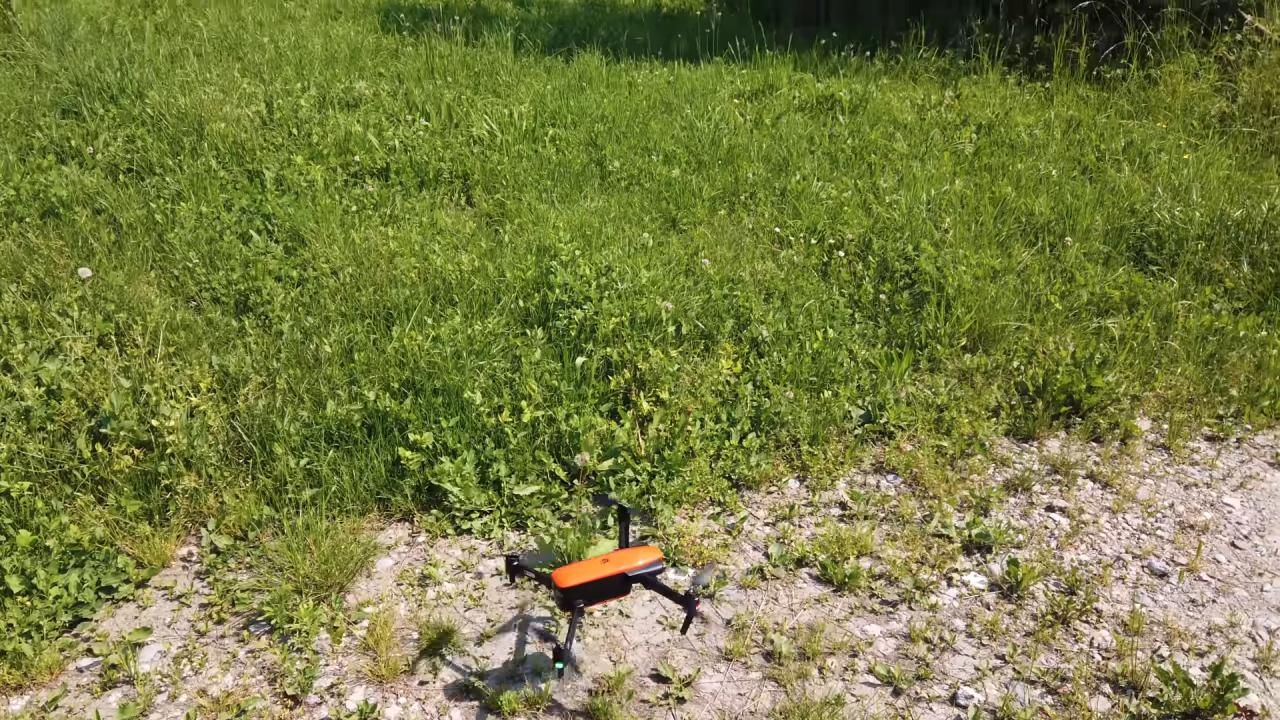Drone: (476, 480, 736, 686)
